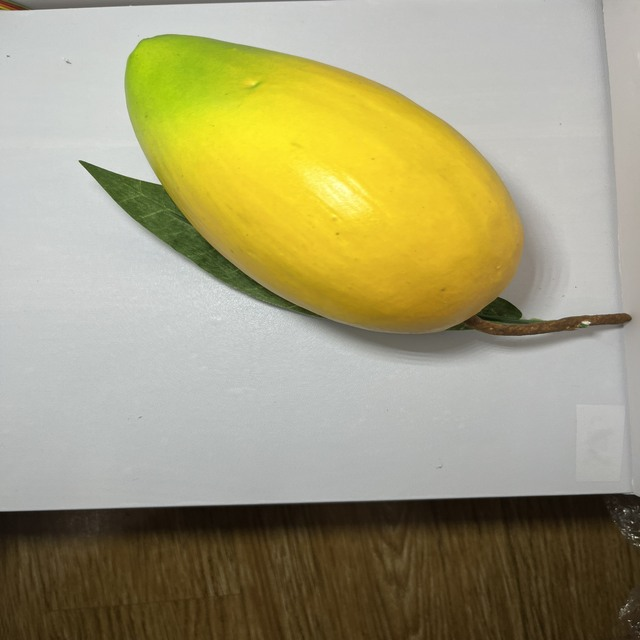Xoai: (116, 29, 526, 344)
